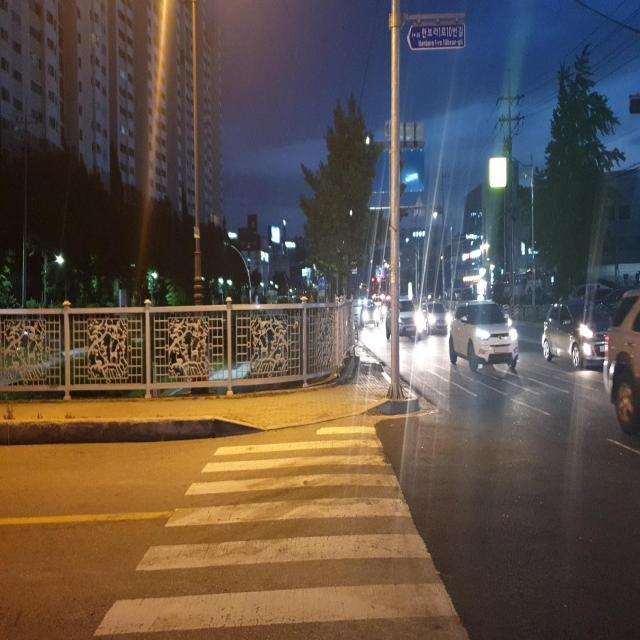횡단보도: (91, 420, 460, 638)
